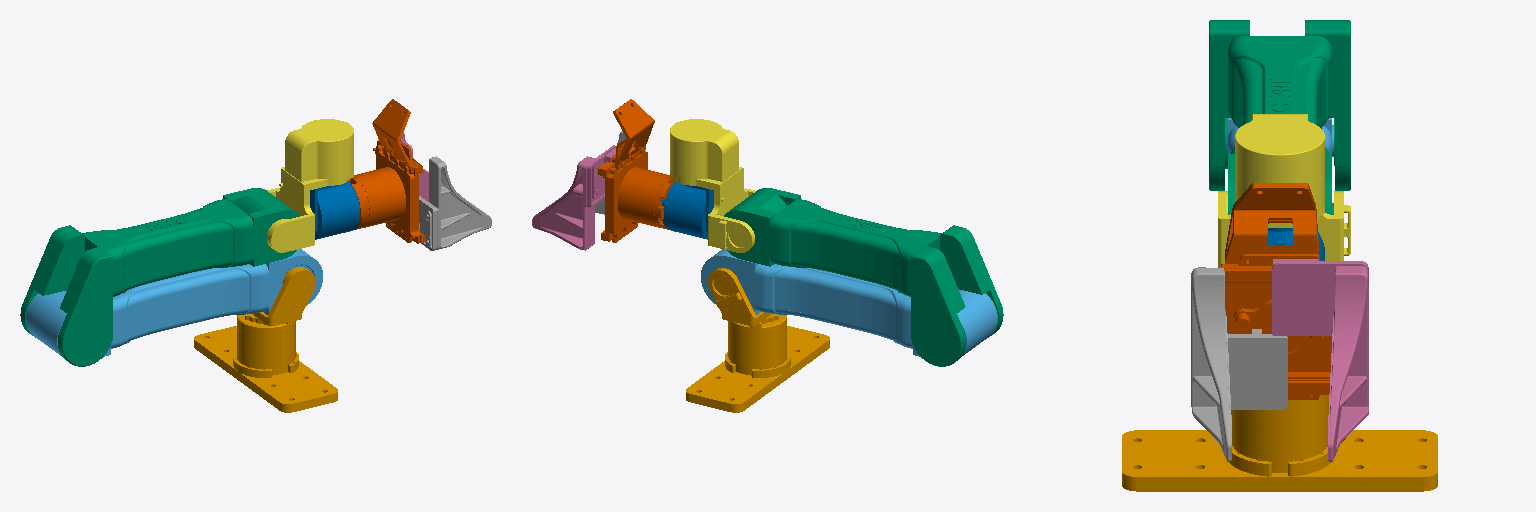
robot.urdf — yam_color:
<?xml version="1.0" encoding="UTF-8"?>
<robot name="yam_color">
  <joint name="joint1" type="revolute">
    <origin xyz="0. 0. 0.0631" rpy="1.5707964 -1.5707964 0. "/>
    <parent link="base_link"/>
    <child link="link_1"/>
    <axis xyz="1. 0. 0."/>
    <limit lower="-2.61799" upper="3.13" effort="10" velocity="10"/>
  </joint>
  <joint name="joint2" type="revolute">
    <origin xyz="0.0409 -0.02 -0.000025" rpy="1.5707964 1.5707963 0. "/>
    <parent link="link_1"/>
    <child link="link_2"/>
    <axis xyz="1. 0. 0."/>
    <limit lower="0." upper="3.65" effort="10" velocity="10"/>
  </joint>
  <joint name="joint3" type="revolute">
    <origin xyz="0. 0. -0.264" rpy="0. 0. 3.1415927"/>
    <parent link="link_2"/>
    <child link="link_3"/>
    <axis xyz="1. 0. 0."/>
    <limit lower="0." upper="3.13" effort="10" velocity="10"/>
  </joint>
  <joint name="joint4" type="revolute">
    <origin xyz="0. -0.06 0.245" rpy="0. 0. 0."/>
    <parent link="link_3"/>
    <child link="link_4"/>
    <axis xyz="1. 0. 0."/>
    <limit lower="-1.5708" upper="1.5708" effort="10." velocity="10"/>
  </joint>
  <joint name="joint5" type="revolute">
    <origin xyz="0.000025 -0.0395 0.074 " rpy="1.5707964 0. 1.5707964"/>
    <parent link="link_4"/>
    <child link="link_5"/>
    <axis xyz="1. 0. 0."/>
    <limit lower="-1.5708" upper="1.5708" effort="10." velocity="10"/>
  </joint>
  <joint name="joint6" type="revolute">
    <origin xyz="0.0395 0.0353 0. " rpy="0. 0. 1.5707964"/>
    <parent link="link_5"/>
    <child link="link_6"/>
    <axis xyz="1. 0. 0."/>
    <limit lower="-2.0944" upper="2.0944" effort="10." velocity="10"/>
  </joint>

  <joint name="gripper" type="prismatic">
    <origin xyz="0.0605 0.0392 0.037 " rpy="0. 1.5707963 0. "/>
    <parent link="link_6"/>
    <child link="link_left_finger"/>
    <axis xyz="1. 0. 0."/>
    <limit lower="0.006" upper="0.055" effort="100" velocity="1."/>
  </joint>
  <joint name="gripper_mirror" type="prismatic">
    <origin xyz="0.0605 -0.0392 -0.037 " rpy="0. 1.5707963 0. "/>
    <parent link="link_6"/>
    <child link="link_right_finger"/>
    <axis xyz="1. 0. 0."/>
    <limit lower="0.006" upper="0.055" effort="100." velocity="1"/>
    <mimic joint="gripper" multiplier="-1" offset="0"/>
  </joint>

  <link name="link_1">
    <inertial>
      <origin xyz="-0.00192861 -0.00795735 0.0208176" rpy="0. 0. 0."/>
      <mass value="0.12415"/>
      <inertia ixx="5.98038e-05" ixy="-4.5902e-06" ixz="7.411e-06" iyy="0.000169215" iyz="1.68342e-05" izz="0.000156182"/>
    </inertial>
    <visual>
      <origin xyz="-0.0632 0.0000002 -0.0000005" rpy="0. 1.5707963 0. "/>
      <geometry>
        <mesh filename="assets_2/link_1_visuals_model2__2_model2__2.obj" scale="1. 1. 1."/>

      </geometry>
    </visual>
  </link>
  <link name="link_2">
    <inertial>
      <origin xyz="0.132008 2.10599e-06 0.000293073" rpy="0. 0. 0."/>
      <mass value="1.24434"/>
      <inertia ixx="0.000683304" ixy="1.99503e-09" ixz="3.68337e-09" iyy="0.0121902" iyz="3.20067e-09" izz="0.0121318"/>
    </inertial>
    <visual>
      <origin xyz="-0.0000245 -0.1041 -0.0199992" rpy="-1.5707964 -0. 0. "/>
      <geometry>
        <mesh filename="assets_2/link_2_visuals_model2__3_model2__3.obj" scale="1. 1. 1."/>
      </geometry>
    </visual>
    <visual>
      <origin xyz="-0.0000245 -0.1041 -0.0199992" rpy="-1.5707964 -0. 0. "/>
      <geometry>
        <mesh filename="assets_2/link_2_visuals_model2__4_model2__4.obj" scale="1. 1. 1."/>
      </geometry>
    </visual>
    <visual>
      <origin xyz="-0.0000245 -0.1041 -0.0199992" rpy="-1.5707964 -0. 0. "/>
      <geometry>
        <mesh filename="assets_2/link_2_visuals_model2__5_model2__5.obj" scale="1. 1. 1."/>
      </geometry>
    </visual>
  </link>
  <link name="link_3">
    <inertial>
      <origin xyz="-0.121816 -0.054846 -0.000111108" rpy="0 0 0"/>
      <mass value="0.853698"/>
      <inertia ixx="0.000835003" ixy="-0.000536647" ixz="-1.03114e-05" iyy="0.00694973" iyz="-6.38588e-06" izz="0.00696195"/>
    </inertial>
    <visual>
      <origin xyz="0.0000245 0.104101 0.244001 " rpy="-1.5707964 0. 3.1415927"/>
      <geometry>
        <mesh filename="assets_2/link_3_visuals_model2__6_model2__6.obj" scale="1. 1. 1."/>
      </geometry>
    </visual>
    <visual>
      <origin xyz="0.0000245 0.104101 0.244001 " rpy="-1.5707964 0. 3.1415927"/>
      <geometry>
        <mesh filename="assets_2/link_3_visuals_model2__7_model2__7.obj" scale="1. 1. 1."/>
      </geometry>
    </visual>
    <visual>
      <origin xyz="0.0000245 0.104101 0.244001 " rpy="-1.5707964 0. 3.1415927"/>
      <geometry>
        <mesh filename="assets_2/link_3_visuals_model2__8_model2__8.obj" scale="1. 1. 1."/>
      </geometry>
    </visual>
    <visual>
      <origin xyz="0.0000245 0.104101 0.244001 " rpy="-1.5707964 0. 3.1415927"/>
      <geometry>
        <mesh filename="assets_2/link_3_visuals_model2__9_model2__9.obj" scale="1. 1. 1."/>
      </geometry>
    </visual>
  </link>
  <link name="link_4">
    <inertial>
      <origin xyz="-0.0569778 -0.0527104 0.000154878" rpy="0. 0. 0."/>
      <mass value="0.463511"/>
      <inertia ixx="0.000582374" ixy="-0.000250406" ixz="-7.15749e-06" iyy="0.000491129" iyz="-3.22486e-06" izz="0.000744878"/>
    </inertial>
    <visual>
      <origin xyz="0.0000245 0.164101 -0.0010002" rpy="-1.5707964 0. -3.1415927"/>
      <geometry>
        <mesh filename="assets_2/link_4_visuals_model2__10_model2__10.obj" scale="1. 1. 1."/>
      </geometry>
    </visual>
  </link>
  <link name="link_5">
    <inertial>
      <origin xyz="3.64861e-05 0.00025665 0.0353526" rpy="0. 0. 0."/>
      <mass value="0.350962"/>
      <inertia ixx="0.000197798" ixy="-3.20004e-07" ixz="-2.01757e-07" iyy="0.000172615" iyz="-1.10998e-05" izz="0.000152291"/>
    </inertial>
    <visual>
      <origin xyz="0.203601 -0.0749971 0. " rpy="3.14159 1.5707964 0. "/>
      <geometry>
        <mesh filename="assets_2/link_5_visuals_model2__11_model2__11.obj" scale="1. 1. 1."/>
      </geometry>
    </visual>
  </link>
  <link name="link_6">
    <inertial>
      <origin xyz="-0.000217767 7.37059e-05 0.0270545" rpy="0. 0. 0."/>
      <mass value="0.367476"/>
      <inertia ixx="0.000265958" ixy="0" ixz="0" iyy="0.000242686" iyz="0" izz="0.000227409"/>
    </inertial>
    <visual>
      <origin xyz="-0.110597 -0.164101 -0. " rpy="-1.5707963 1.5707963 0. "/>
      <geometry>
        <mesh filename="assets_2/link_6_visuals_model2__12_model2__12.obj" scale="1. 1. 1."/>
      </geometry>
    </visual>
    <visual>
      <origin xyz="-0.110597 -0.164101 -0. " rpy="-1.5707963 1.5707963 0. "/>
      <geometry>
        <mesh filename="assets_2/link_6_visuals_model2__13_model2__13.obj" scale="1. 1. 1."/>
      </geometry>
    </visual>
    <visual>
      <origin xyz="0.05 0.05 0.035 " rpy="-1.5707963 3.1415 0. "/>
      <geometry>
        <mesh filename="assets_2/new_camera_mount.obj" scale="0.001 0.001 0.001"/>
      </geometry>
    </visual>
    <visual>
      <origin xyz="0.0653 0.0843 -0.0005 " rpy="-0.22 1.5707963 -0.92 "/>
      <geometry>
        <mesh filename="assets_2/camera_enclosure.obj" scale="0.001 0.001 0.001"/>
      </geometry>
    </visual>
    <!-- <visual>
      <origin xyz="0. 0. -0." rpy="-1.5707964 0.0000001 -1.5707964"/>
      <geometry>
        <sphere radius="0.005"/>
      </geometry>
    </visual> -->
    <!-- <visual>
      <origin xyz="0.1347 -0. -0. " rpy="-1.5707964 0.0000001 -1.5707964"/>
      <geometry>
        <sphere radius="0.005"/>
      </geometry>
    </visual> -->
  </link>
  <link name="link_left_finger">
    <inertial>
      <origin xyz="-0.0192995 -0.0365902 0.039774 " rpy="0. 0. 0."/>
      <mass value="0.118"/>
      <inertia ixx="0.000159084" ixy="0" ixz="0" iyy="0.000154909" iyz="0" izz="4.63655e-05"/>
    </inertial>
    <visual>
      <origin xyz="0.037 -0.203301 -0.171097" rpy="-1.5707964 -0. -0. "/>
      <geometry>
        <mesh filename="assets_2/link_left_finger_visuals_model2__14_model2__14.obj" scale="1. 1. 1."/>
      </geometry>
    </visual>
    <visual>
      <origin xyz="0.037 -0.203301 -0.171097" rpy="-1.5707964 -0. -0. "/>
      <geometry>
        <mesh filename="assets_2/link_left_finger_visuals_model2__15_model2__15.obj" scale="1. 1. 1."/>
      </geometry>
    </visual>
  </link>
  <link name="link_right_finger">
    <inertial>
      <origin xyz="-0.0192995 0.0365902 -0.039774 " rpy="0. 0. 0."/>
      <mass value="0.118"/>
      <inertia ixx="0.000159084" ixy="0" ixz="0" iyy="0.000154909" iyz="0" izz="4.63655e-05"/>
    </inertial>
    <visual>
      <origin xyz="-0.037 -0.124901 -0.171097" rpy="-1.5707964 -0. -0. "/>
      <geometry>
        <mesh filename="assets_2/link_right_finger_visuals_model2__16_model2__16.obj" scale="1. 1. 1."/>
      </geometry>
    </visual>
    <visual>
      <origin xyz="-0.037 -0.124901 -0.171097" rpy="-1.5707964 -0. -0. "/>
      <geometry>
        <mesh filename="assets_2/link_right_finger_visuals_model2__17_model2__17.obj" scale="1. 1. 1."/>
      </geometry>
    </visual>
  </link>
  <link name="base_link">
    <inertial>
      <origin xyz="-7.22812e-05 2.52572e-05 0.0159932" rpy="0 0 0"/>
      <mass value="0.822546"/>
      <inertia ixx="0.00169415" ixy="2.43507e-07" ixz="-1.31515e-07" iyy="0.00066093" iyz="-9.11171e-07" izz="0.00155626"/>
    </inertial>
    <visual>
      <origin xyz="0. 0. -0.0006" rpy="0. 0. 1.5707963"/>
      <geometry>
        <mesh filename="assets_2/base_link_visuals_model2_model2.obj" scale="1. 1. 1."/>
      </geometry>
    </visual>
  </link>
</robot>

--- Render facts (derived) ---
Views: 3 orthographic renders of the robot side by side, from view 1: azimuth 30°, elevation 25°; view 2: azimuth 150°, elevation 25°; view 3: azimuth 270°, elevation 25°.
Model yam_color with 9 links and 8 joints (6 revolute, 2 prismatic), rooted at base_link, posed joints at zero except 2 at the middle of their limits (gripper = 0.0305, gripper_mirror = -0.0305).
Visible links, largest first — view 1: link_3, link_2, base_link, link_4, link_6, link_right_finger, link_5, link_1; view 2: link_3, link_2, base_link, link_4, link_6, link_left_finger, link_5, link_1; view 3: base_link, link_3, link_6, link_left_finger, link_right_finger, link_4, link_5, link_2.
Link boxes in pixels (left/top/right/bottom): link_3: left=20, top=188, right=299, bottom=366; link_2: left=26, top=249, right=322, bottom=356; base_link: left=194, top=314, right=337, bottom=412; link_4: left=267, top=119, right=353, bottom=252; link_6: left=348, top=99, right=425, bottom=243; link_right_finger: left=412, top=156, right=491, bottom=250; link_5: left=310, top=181, right=359, bottom=239; link_1: left=253, top=267, right=315, bottom=325; link_3: left=724, top=188, right=1003, bottom=366; link_2: left=701, top=249, right=997, bottom=356; base_link: left=686, top=314, right=829, bottom=412; link_4: left=670, top=119, right=755, bottom=252; link_6: left=598, top=99, right=675, bottom=242; link_left_finger: left=532, top=145, right=615, bottom=250; link_5: left=662, top=181, right=713, bottom=239; link_1: left=708, top=268, right=770, bottom=325; base_link: left=1122, top=395, right=1437, bottom=491; link_3: left=1209, top=20, right=1350, bottom=214; link_6: left=1221, top=183, right=1331, bottom=399; link_left_finger: left=1272, top=259, right=1368, bottom=461; link_right_finger: left=1191, top=267, right=1287, bottom=461; link_4: left=1218, top=114, right=1350, bottom=267; link_5: left=1268, top=228, right=1324, bottom=260; link_2: left=1228, top=118, right=1333, bottom=156.
Bounding box of the posed robot: 0.5326 × 0.2 × 0.2757 m (x, y, z).
Meshes: 19 distinct files referenced, 18 mesh visuals loaded (18 OBJ); not drawn: 1 (reference not matched to a file when rendering).
